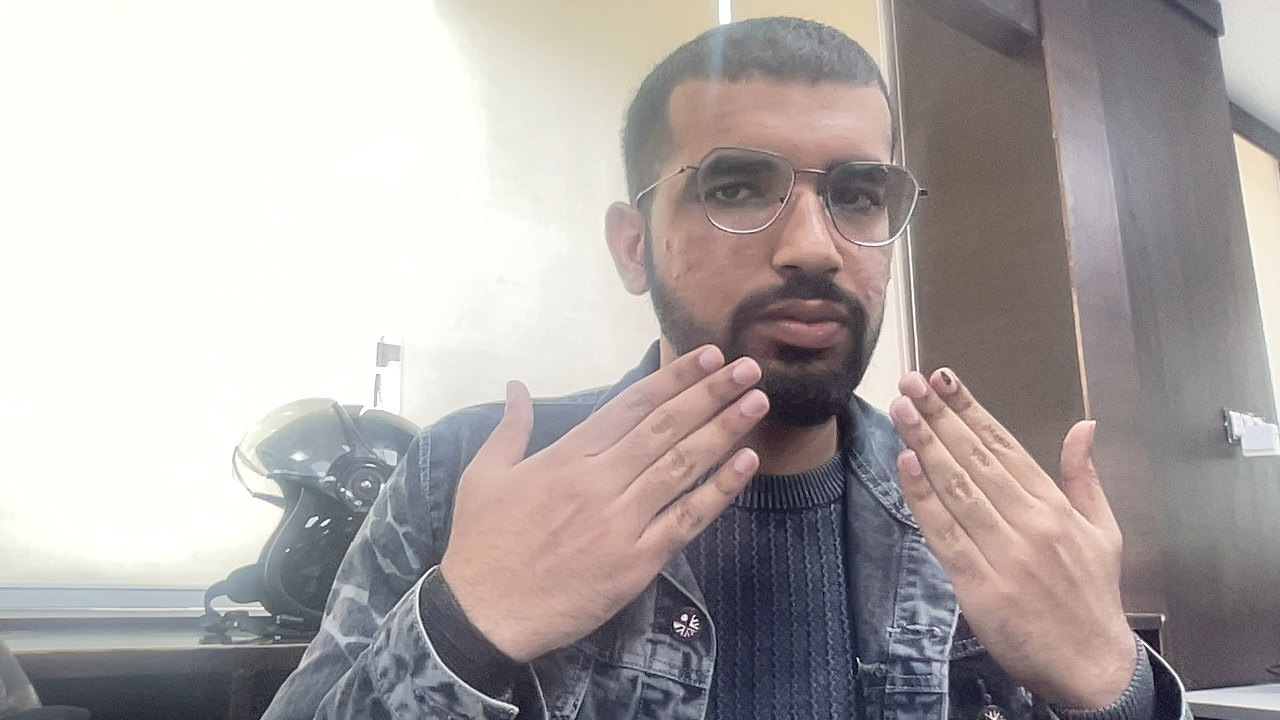Thank You: (310, 304, 1194, 694)
